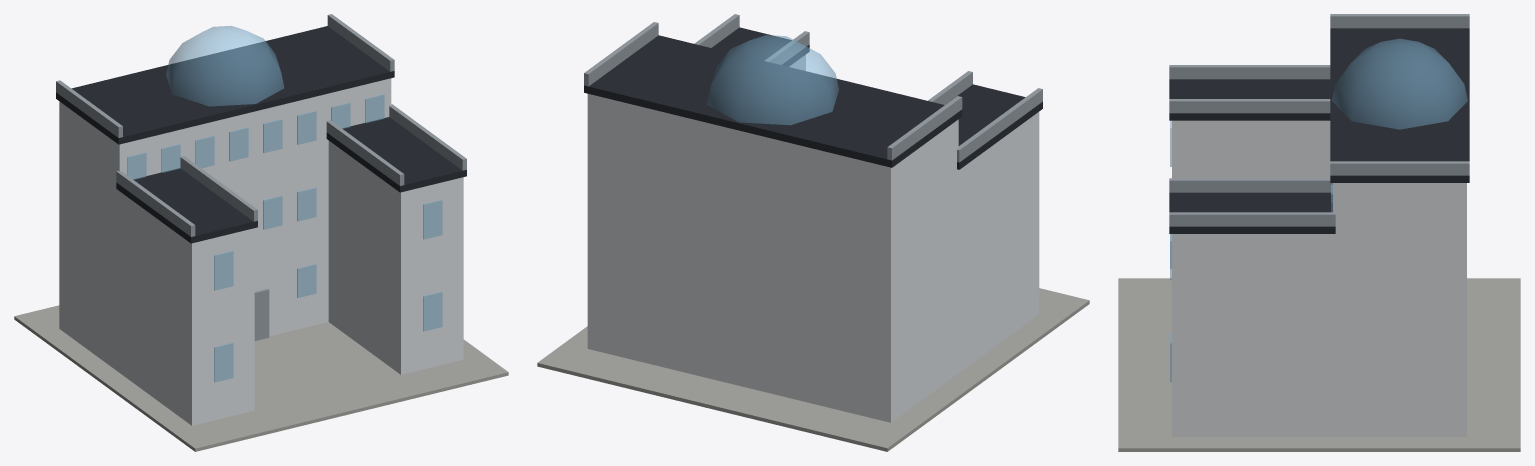
The model's file is bld_special_university_a08_lod1.glb.
3 renders of one model, left to right at view 1: azimuth 30°, elevation 25°; view 2: azimuth 150°, elevation 25°; view 3: azimuth 270°, elevation 25°, orthographic. The views are drawn at different scales.
Visible parts, largest first — view 1: body; view 2: body; view 3: body.
Boxes of the visible parts, <box> form: body: <box>14,14,508,451</box>; body: <box>537,14,1089,451</box>; body: <box>1118,14,1520,451</box>.
Size of the model in its own units: 15 by 13.25 by 15.
